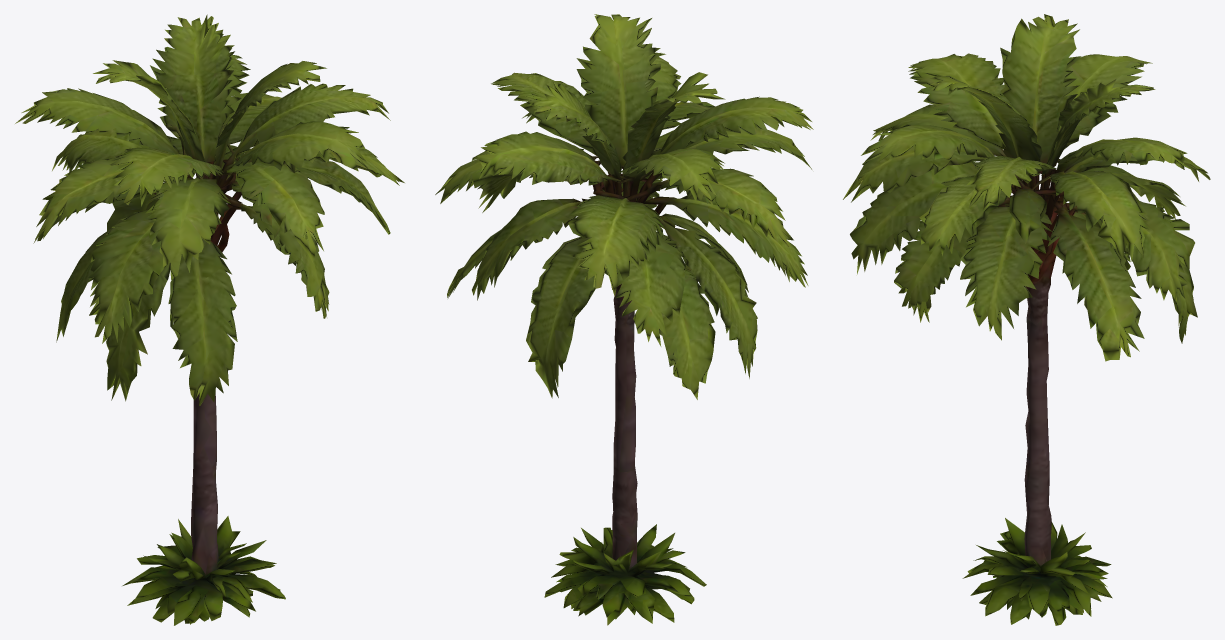
Rendered from palm.glb.
3 renders of one model, left to right at view 1: azimuth 30°, elevation 25°; view 2: azimuth 150°, elevation 25°; view 3: azimuth 270°, elevation 25°, orthographic. The views are drawn at different scales.
Visible parts, largest first — view 1: tripo_node_2c446011-61ba-46a7-995a-a29db6432cc5; view 2: tripo_node_2c446011-61ba-46a7-995a-a29db6432cc5; view 3: tripo_node_2c446011-61ba-46a7-995a-a29db6432cc5.
Part boxes in pixels (bbox=[...]): tripo_node_2c446011-61ba-46a7-995a-a29db6432cc5: bbox=[15, 14, 404, 625]; tripo_node_2c446011-61ba-46a7-995a-a29db6432cc5: bbox=[435, 14, 813, 625]; tripo_node_2c446011-61ba-46a7-995a-a29db6432cc5: bbox=[843, 14, 1210, 625].
Size of the model in its own units: 2.21 by 3.5 by 2.14.
1 material, 1 textured.
